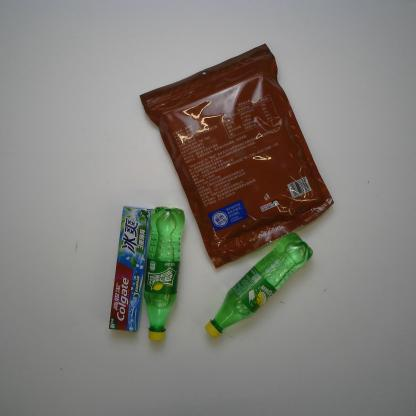Dried Food: (137, 40, 337, 271)
Drink: (203, 228, 314, 340), (141, 205, 186, 346)
Personal Hygiene: (107, 204, 155, 335)
